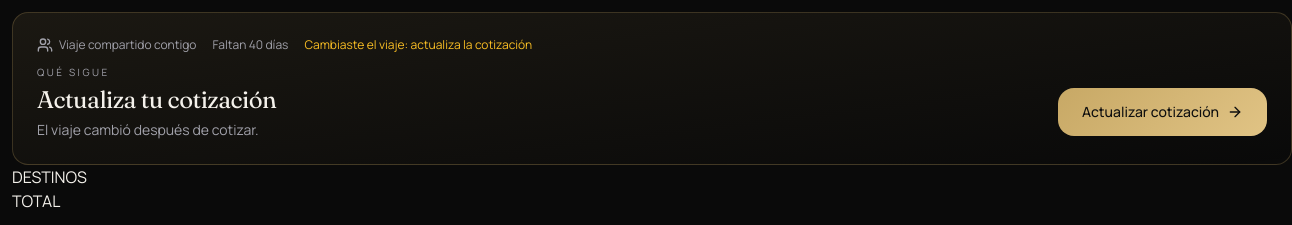
Test case: TripNextStep › si cambió el viaje después de cotizar, manda a actualizar la cotización
Check: the text "Viaje compartido contigo" is shown, box [37,37,196,53]
Click the button "Actualizar cotización" at [1162, 112], box [1058,88,1267,136]
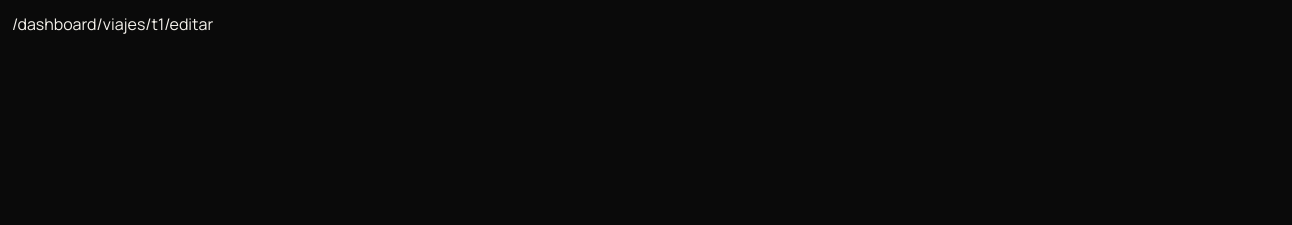
Check: the text with test id "where" reads "/dashboard/viajes/t1/editar", box [12,13,213,35]
